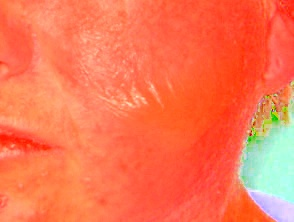SJS-TEN: (0, 0, 281, 221)
